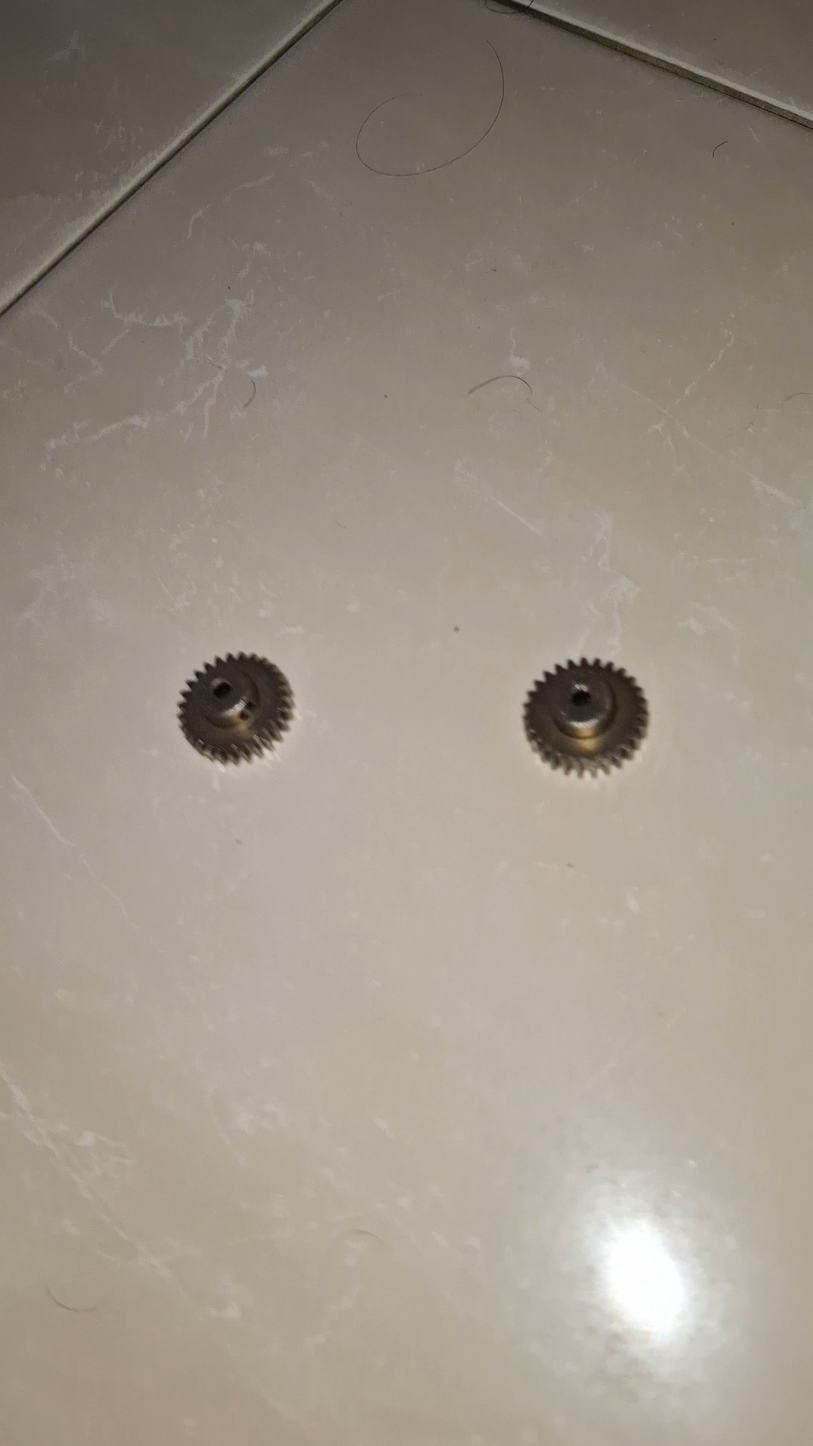spur gear: (547, 675, 671, 793), (202, 674, 315, 783)
